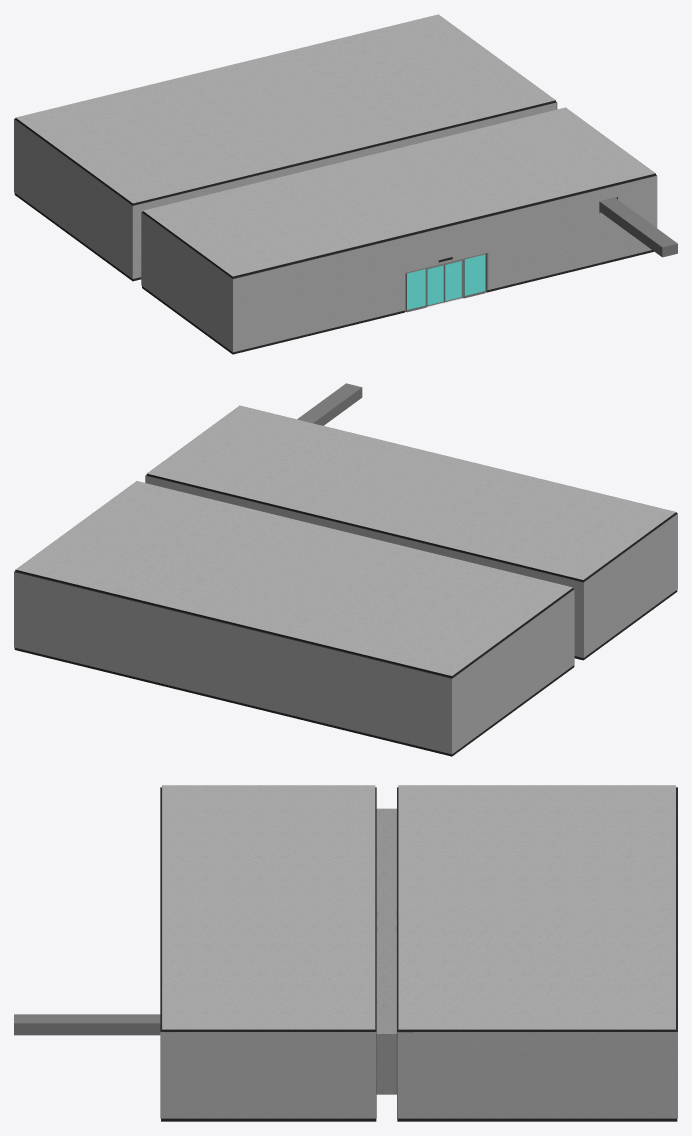
File: Map_Model.fbx
3 views of the same model, one above another, from view 1: azimuth 30°, elevation 25°; view 2: azimuth 150°, elevation 25°; view 3: azimuth 270°, elevation 25° (orthographic). The views are drawn at different scales.
Parts seen in each view (by area): view 1: Bank1; view 2: Bank1; view 3: Bank1.
Boxes of the visible parts, bbox=[...] form: Bank1: bbox=[14, 14, 677, 354]; Bank1: bbox=[14, 383, 677, 756]; Bank1: bbox=[14, 785, 677, 1121].
Bounding box in the file's own units: 3153 × 550 × 3612.
1 material, 1 textured.
